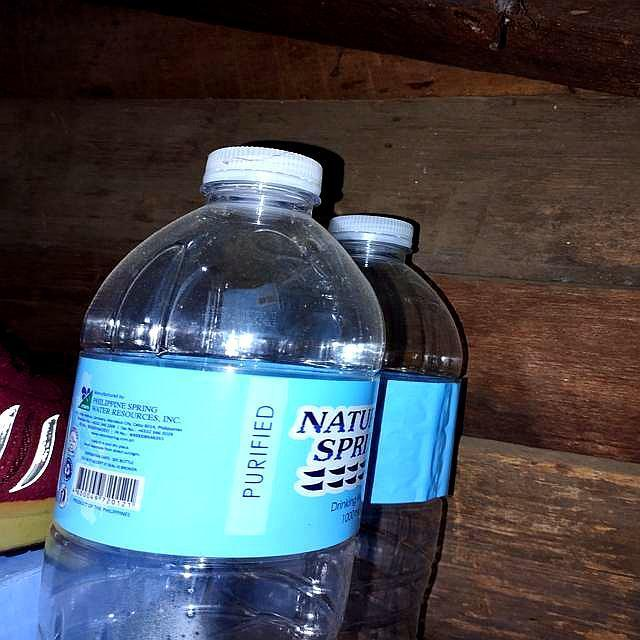Non-biodegradable: (39, 145, 359, 640), (325, 217, 467, 640)
